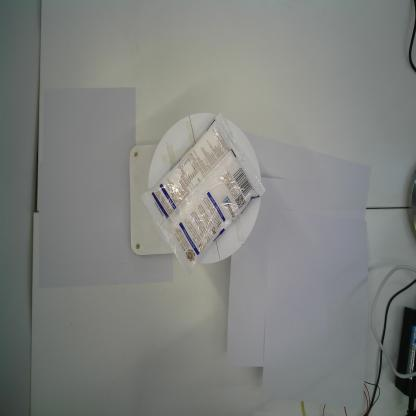Seasoner: (140, 110, 264, 279)
